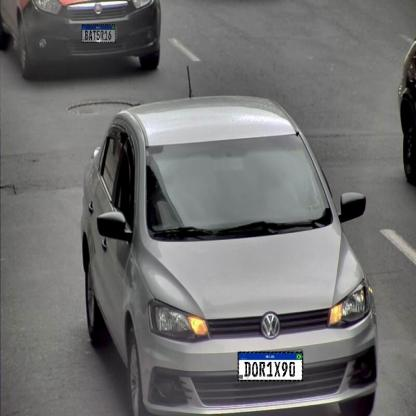PlacaM: (238, 352, 303, 382), (82, 24, 116, 43)
